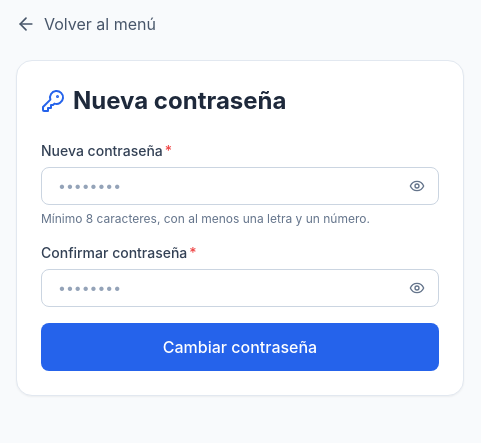
Test: ResetPassword › valida longitud y confirmación de la contraseña
The image size is (481, 443).
Type "corta" into the password field labelled "Nueva contraseña*" at point(240, 186), box [41,167,439,205]
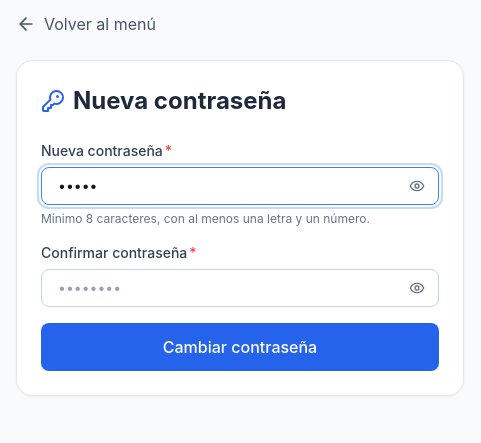
Type "otra" into the password field labelled "Confirmar contraseña*" at point(240, 288), box [41,269,439,307]
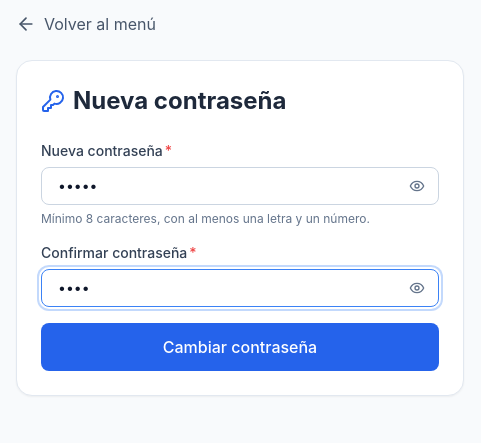
Click the button "Cambiar contraseña" at point(240, 347), box [41,323,439,371]
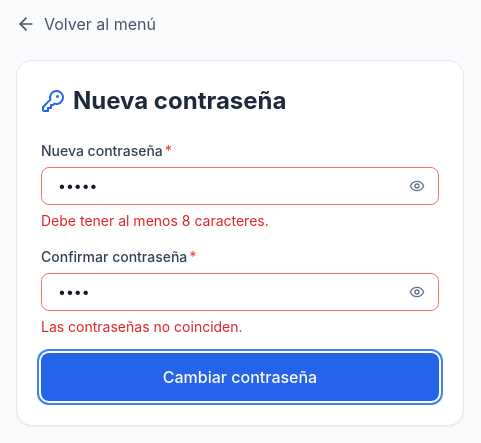
Expected: the text "Debe tener al menos 8 caracteres." is shown, [41,212,269,229]
Expected: the text "Las contraseñas no coinciden." is shown, [41,318,243,335]
